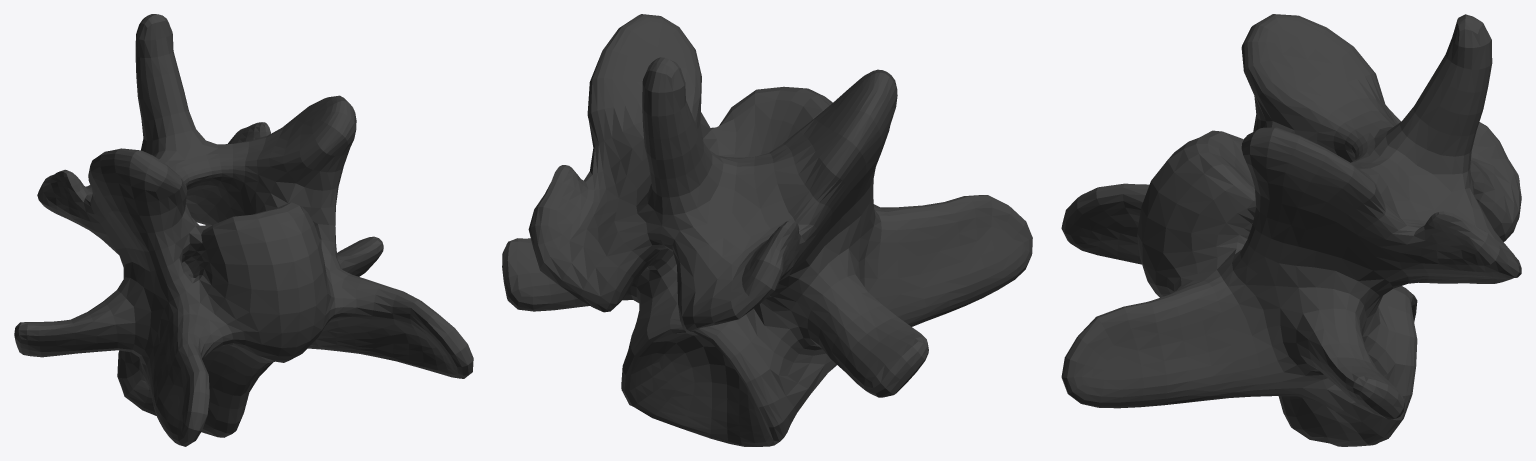
3 renders of one model, left to right at view 1: azimuth 30°, elevation 25°; view 2: azimuth 150°, elevation 25°; view 3: azimuth 270°, elevation 25°, orthographic. The views are drawn at different scales.
Visible parts, largest first — view 1: b_C4_LO; view 2: b_C4_LO; view 3: b_C4_LO.
Part boxes in pixels (x1,y1,x2,y2): b_C4_LO: [14, 14, 473, 446]; b_C4_LO: [502, 14, 1032, 446]; b_C4_LO: [1061, 14, 1521, 446].
Size of the model in its own units: 0.00109 by 0.00107 by 0.00105.
Materials: 1 (1 with a texture image).
